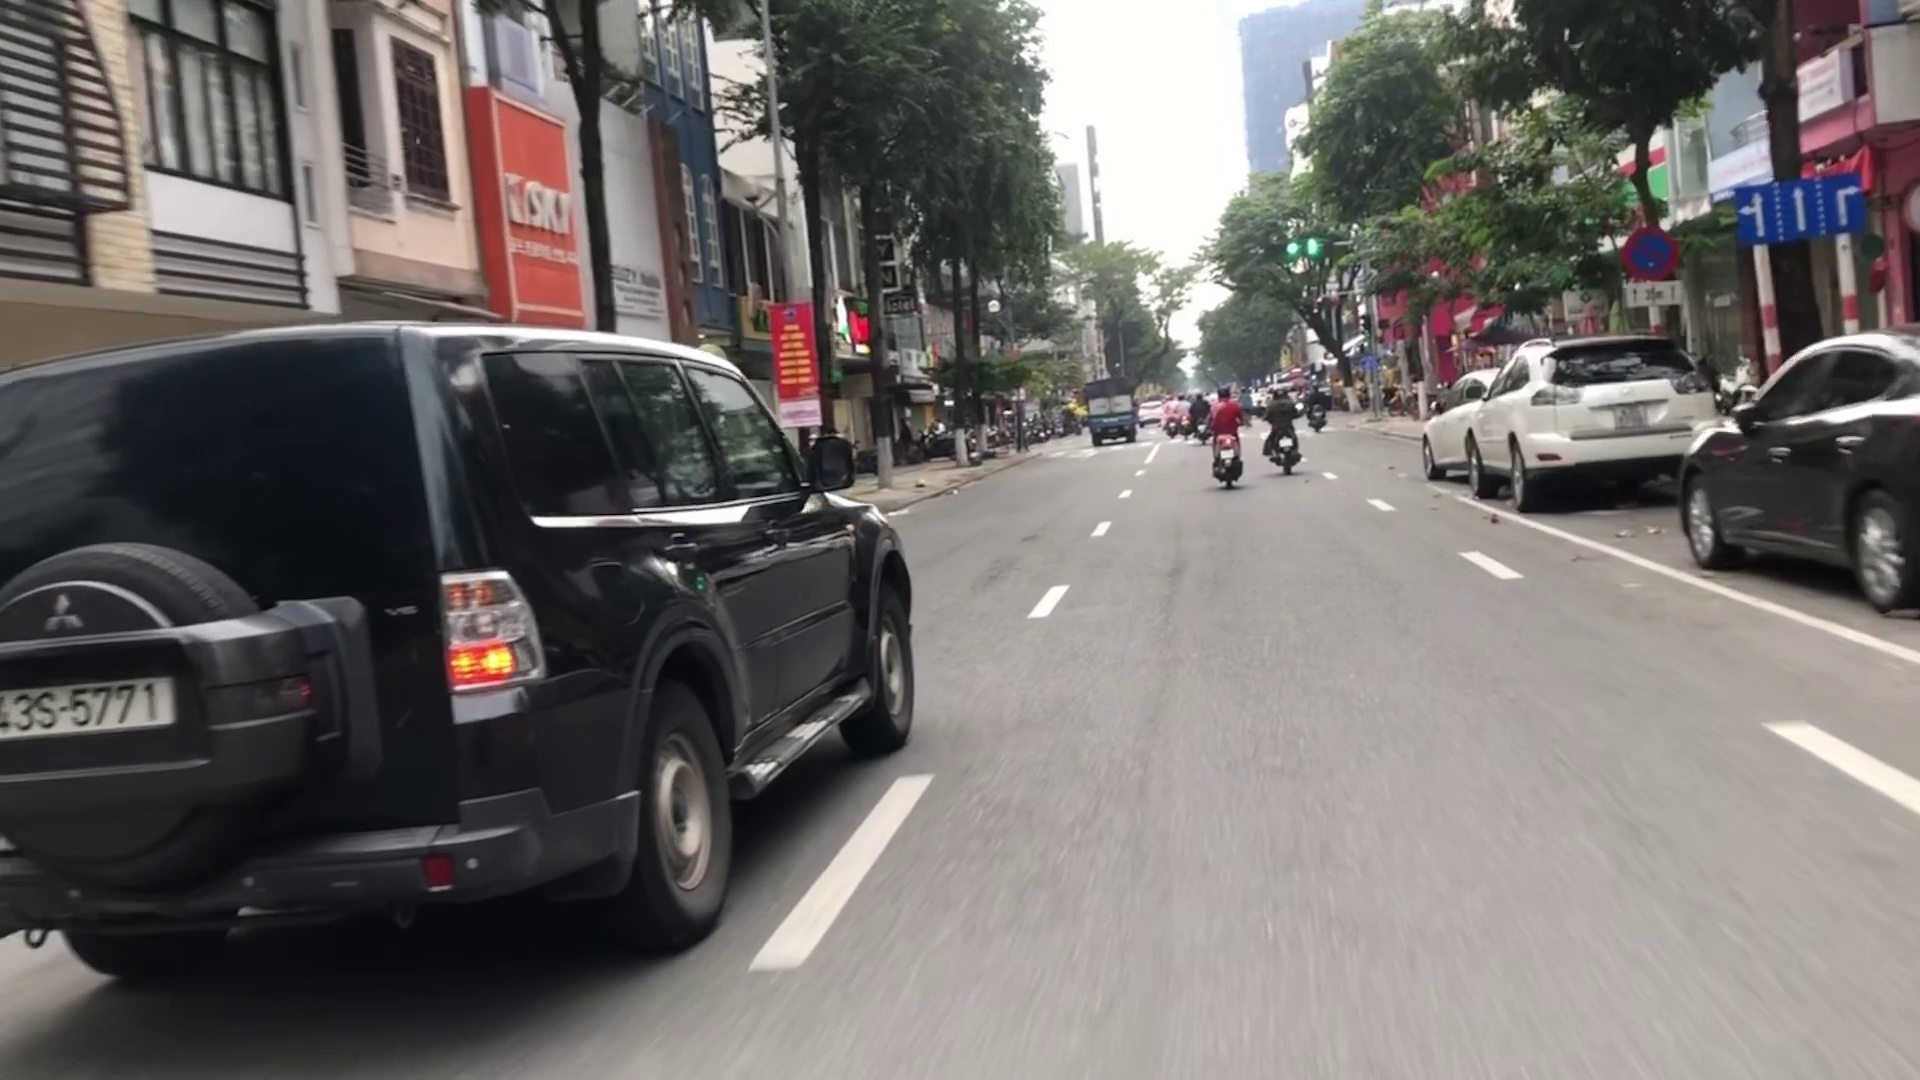Bien khac: (1731, 178, 1866, 239)
Cam do xe: (1621, 225, 1677, 281)
